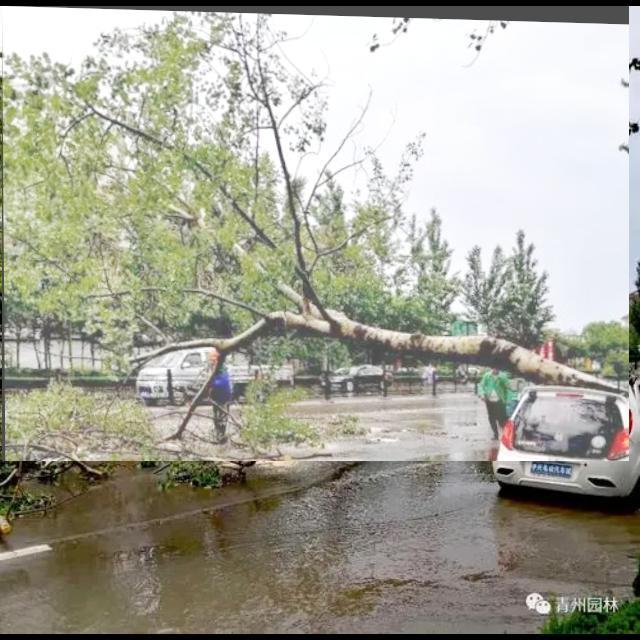fallen_tree: (2, 6, 630, 462)
